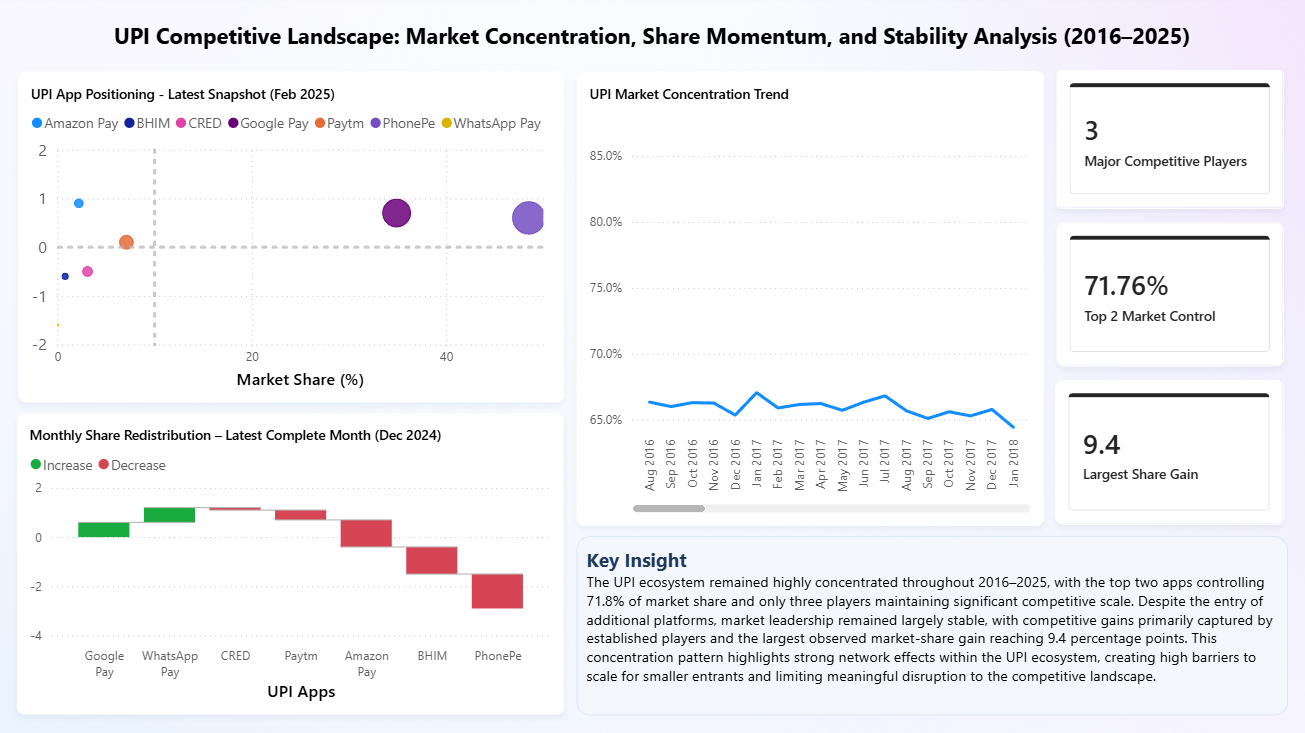

The dashboard page shown, as its layout file describes it:
{"tool":"powerbi","page":{"name":"Competitive Landscape Analysis","canvas":[1280,720],"ordinal":3},"visuals":[{"type":"cardVisual","title":"Top 2 Market Share","fields":{"Data":["App Market Share.Top 2 Combined Share"]},"box":[1034.5,217.9,222.6,140.6],"z":0},{"type":"cardVisual","title":"Apps Above 5% Share","fields":{"Data":["App Market Share.Apps Above 5% Share"]},"box":[1034.5,68.7,222.6,135.7],"z":1000},{"type":"cardVisual","title":"Maximum Share Gain (pp)","fields":{"Data":["App Market Share.Highest Positive Share Shift"]},"box":[1032.8,372,223.8,141.8],"z":2000},{"type":"scatterChart","title":"UPI App Positioning - Latest Snapshot (Feb 2025)","fields":{"X":["App Market Share.market_share_pct"],"Y":["App Market Share.MoM Share Change PP"],"Series":["App Market Share.app_name"],"Size":["Sum(App Market Share.market_share_pct)1"]},"box":[18.3,69.7,534.4,324.1],"z":3000},{"type":"waterfallChart","title":"Monthly Share Redistribution – Latest Complete Month (Dec 2024)","fields":{"Category":["App Market Share.app_name"],"Y":["App Market Share.MoM Share Change PP"]},"box":[17.1,403.5,535.6,295.9],"z":4000},{"type":"lineChart","title":"UPI Market Concentration Trend","fields":{"Y":["App Market Share.Top 2 Combined Share"],"Category":["DateTable.Month-Year"]},"box":[564.9,69.7,457.3,445.1],"z":5000},{"type":"textbox","box":[88,14.7,1101.8,40.4],"z":6000},{"type":"textbox","box":[564.9,524.6,695.8,174.9],"z":7000}]}

Visuals, with their boxes in screenshot pixels (x1, y1, x2, y2), scaled from the page's 1280x720 canvas onto the 1305x733 screenshot:
"Top 2 Market Share" cardVisual: 1055,222,1282,365
"Apps Above 5% Share" cardVisual: 1055,70,1282,208
"Maximum Share Gain (pp)" cardVisual: 1053,379,1281,523
"UPI App Positioning - Latest Snapshot (Feb 2025)" scatterChart: 19,71,563,401
"Monthly Share Redistribution – Latest Complete Month (Dec 2024)" waterfallChart: 17,411,563,712
"UPI Market Concentration Trend" lineChart: 576,71,1042,524
textbox: 90,15,1213,56
textbox: 576,534,1285,712
